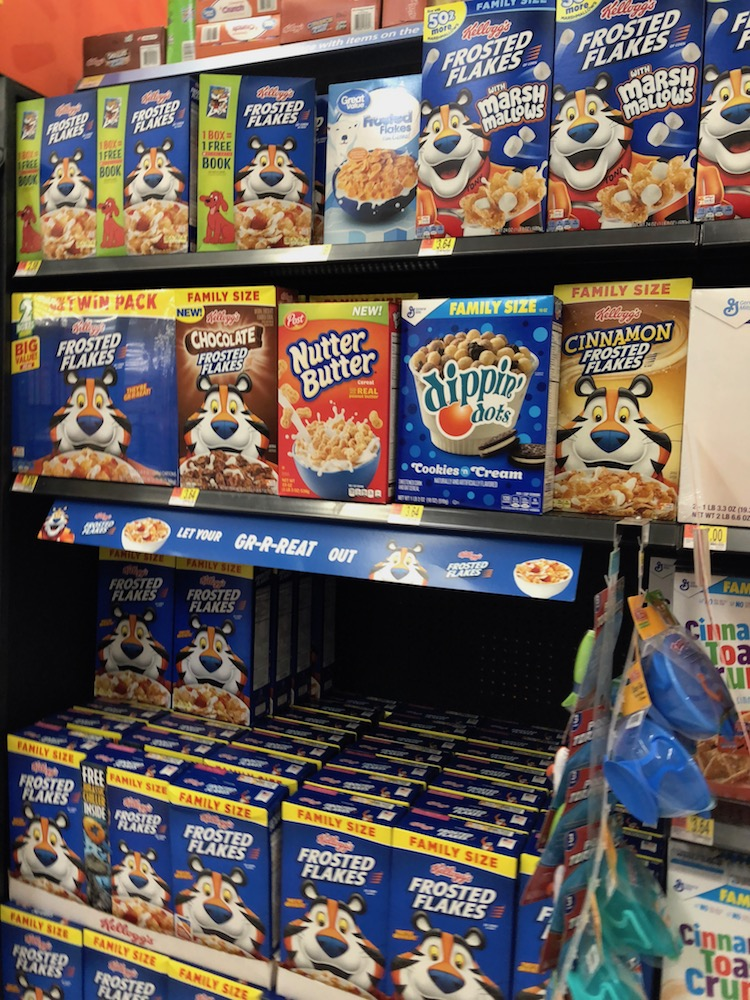Dippin Dots Cookies & Cream -568929378: (392, 298, 548, 506)
Nutter Butter-565717511: (273, 306, 411, 508)
